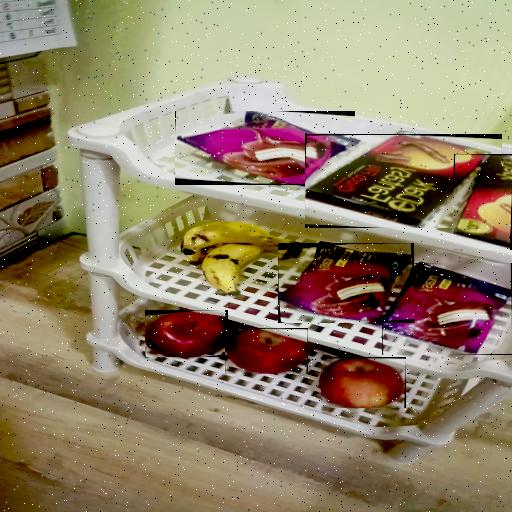Apple: (321, 357, 406, 408), (145, 310, 228, 357), (225, 328, 308, 374)
Choco Fills: (305, 134, 502, 228), (454, 154, 512, 250)
Choco Pie: (175, 111, 355, 185), (382, 263, 512, 355), (278, 243, 414, 323)
